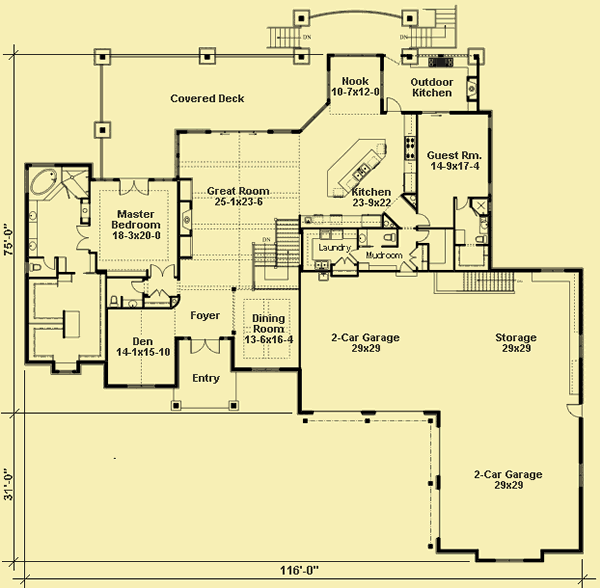bathroom has a shower space with small and large sink: (454, 195, 494, 250)
bathroom has dual sink with large sink and shower space and tub: (25, 164, 96, 280)
kitchen has a twin sink and cooking range with kitchen bar: (296, 115, 420, 232)
laundry room has washer and dryer: (299, 226, 360, 275)
small bathroom has small and large sink: (103, 275, 143, 311), (358, 229, 398, 246)
there are stairs in the open area: (226, 215, 297, 295)
